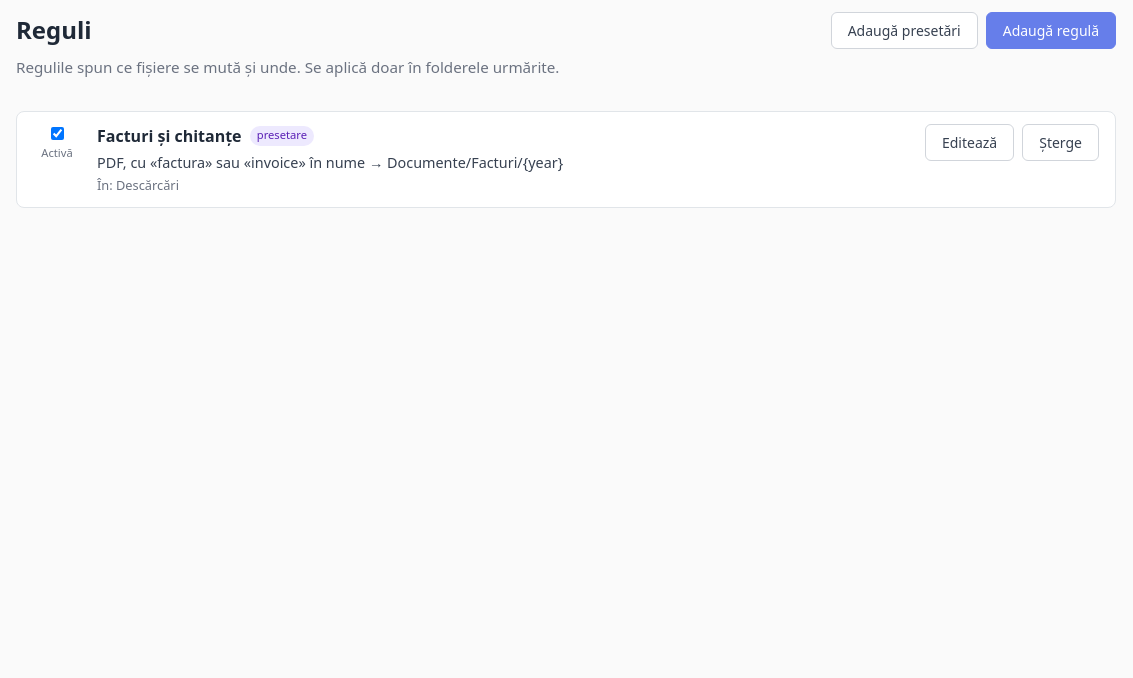
Test: RulesView › lists presets with installed ones marked and installs or reinstalls the selected ones
Expected: the text "Facturi și chitanțe" is shown, [97,124,242,148]
What coordinates should you click on to do the following:
click the button "Adaugă presetări"
I would click on:
 (904, 30)
Its box is [831,12,978,49].
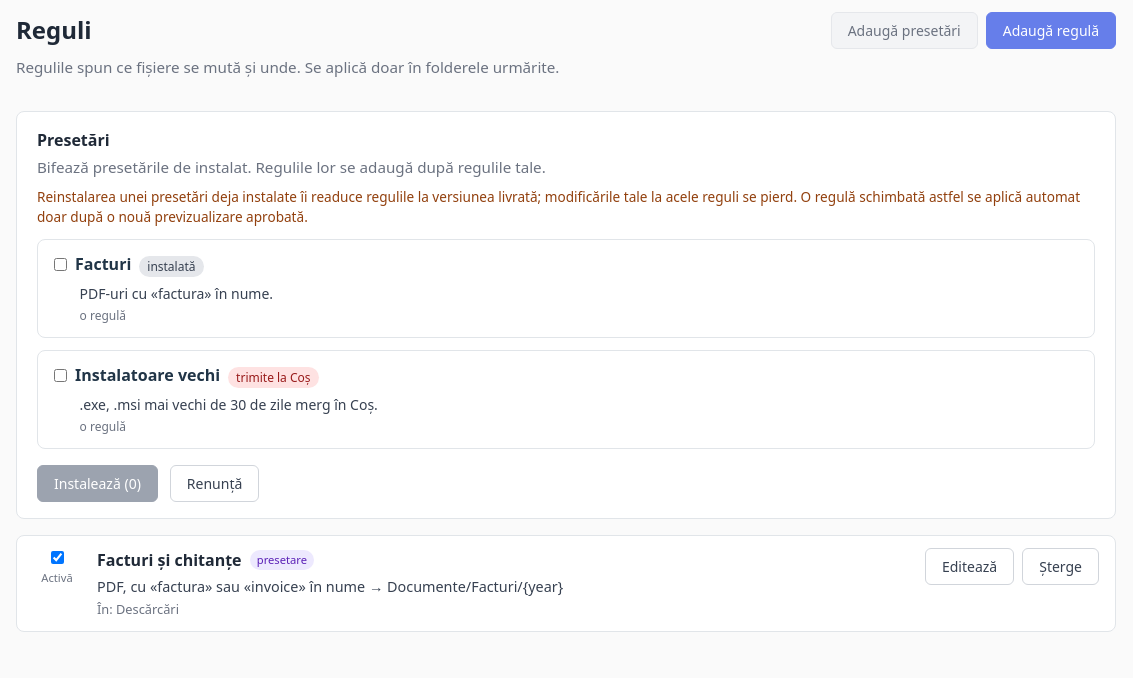
Now the text "instalată" is shown, box [139,256,204,278]
Now the text "trimite la Coș" is shown, box [228,367,319,388]
Now the text "readuce regulile la versiunea livrată" is shown, box [37,187,1080,226]
What coordinates should you click on to do the following:
click the checkbox with test id "rules-preset-invoices"
I would click on:
 (60, 264)
Its box is [54,258,67,271].
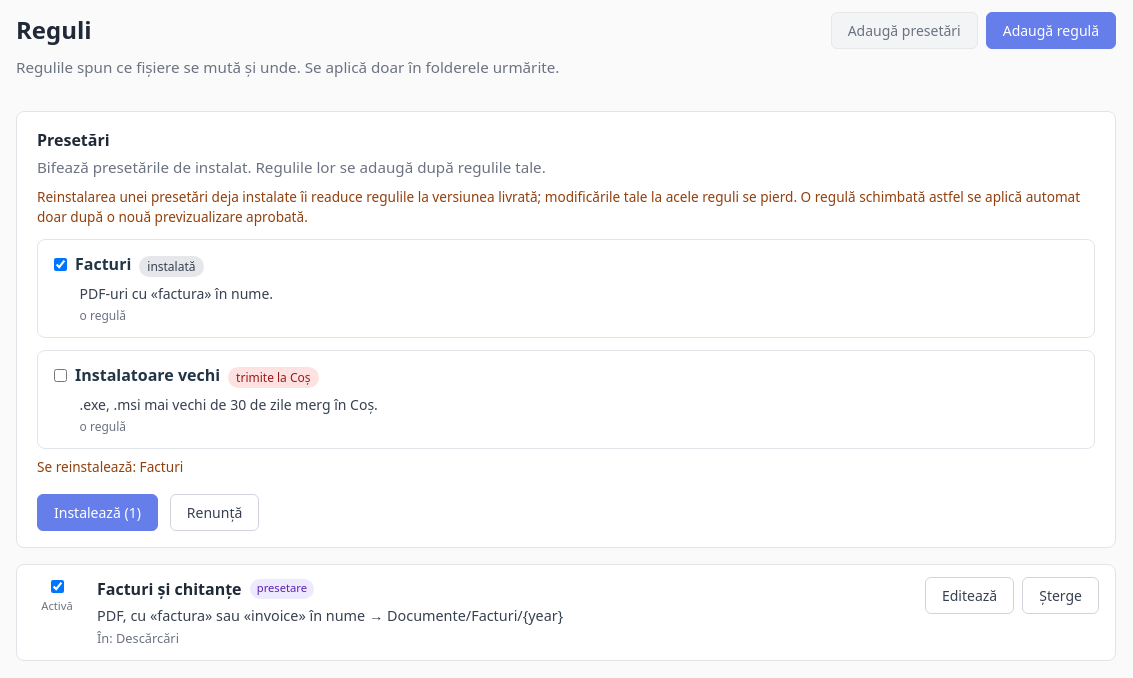
What coordinates should you click on to do the following:
click the checkbox with test id "rules-preset-old-installers"
I would click on:
 (60, 375)
Its box is [54,369,67,382].
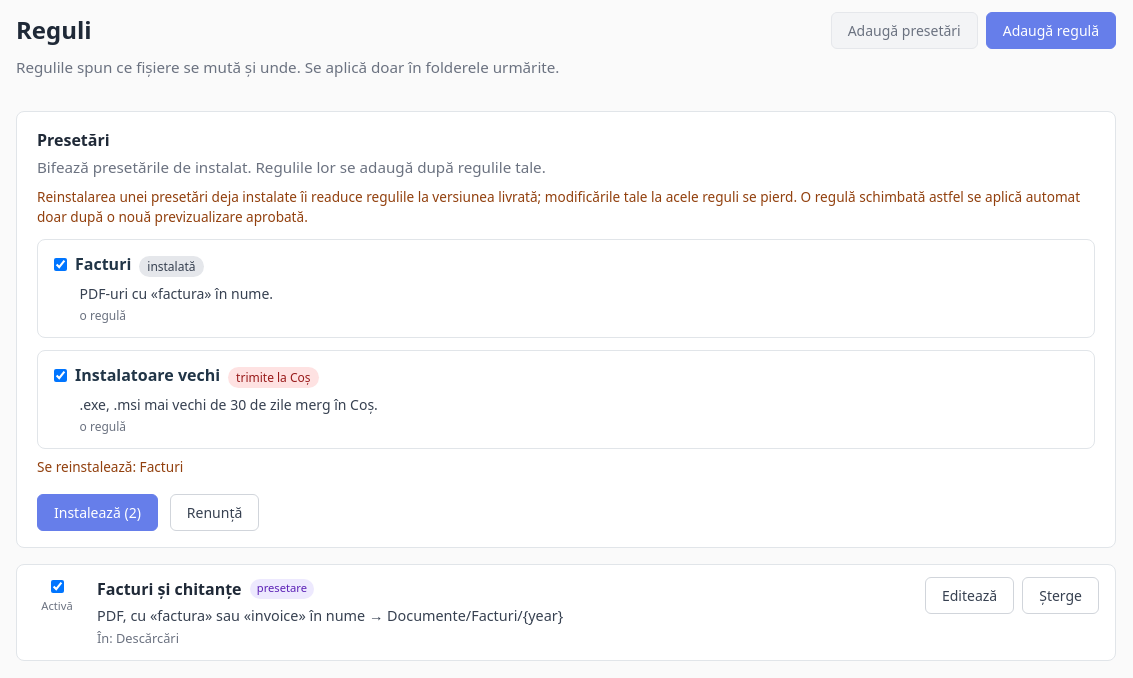
Now the text "Se reinstalează: Facturi" is shown, box [37,457,183,476]
Now the button with test id "rules-presets-install" reads "Instalează (2)"
What coordinates should you click on to do the following:
click the button with test id "rules-presets-install"
I would click on:
 (97, 512)
Its box is [37,494,158,530].
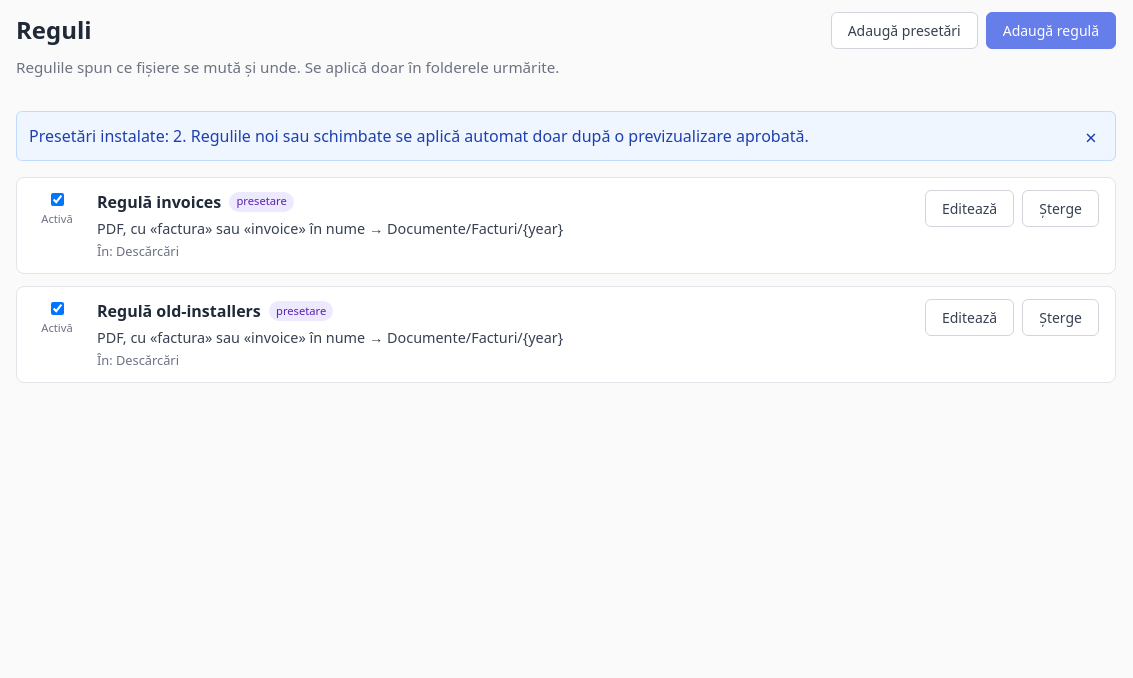
Now the text "Presetări instalate: 2. Regulile noi sau schimbate se aplică automat doar după o previzualizare aprobată." is shown, box [29,125,809,147]
Now the element with test id "rules-presets" is gone
Now the text "Regulă old-installers" is shown, box [97,299,261,323]
